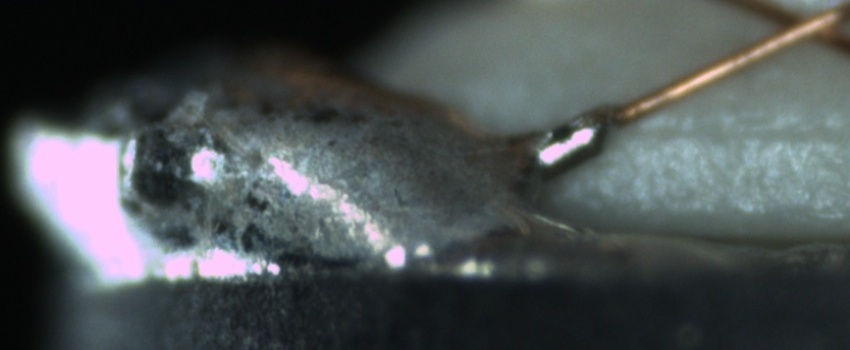CL: (750, 2, 844, 56)
DL: (625, 102, 850, 166)
TB: (528, 106, 610, 179)
TS: (532, 102, 622, 177)
TTCW: (530, 88, 667, 175)
